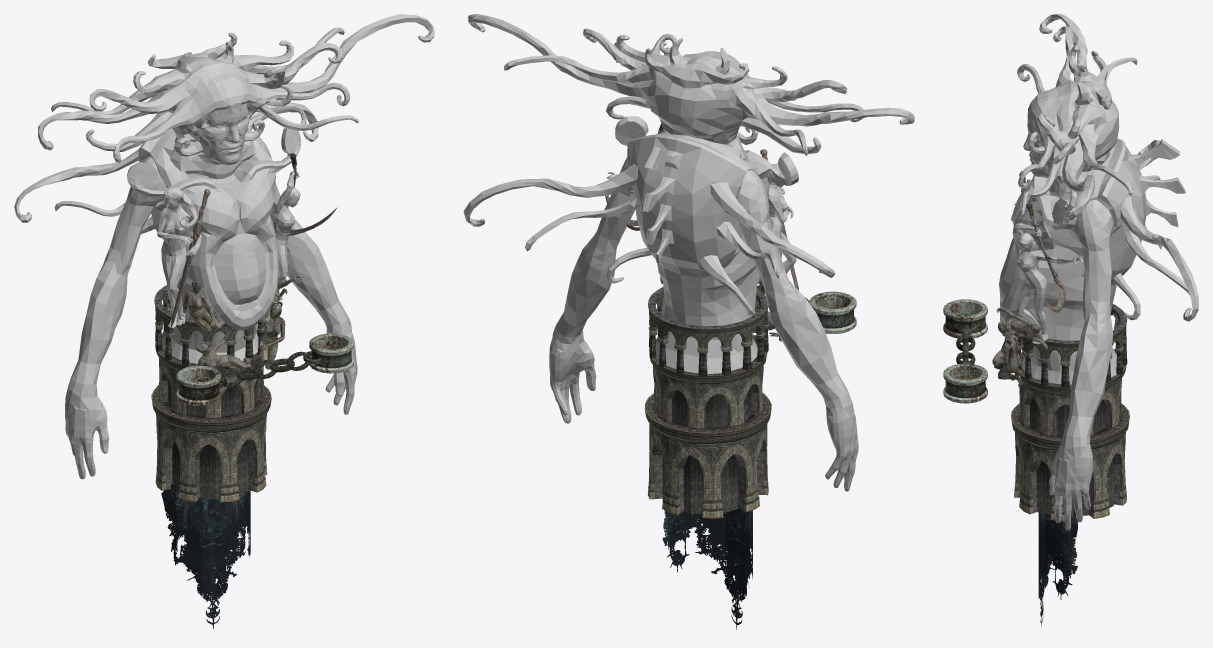
The model's file is sparda.obj.
3 renders of one model, left to right at view 1: azimuth 30°, elevation 25°; view 2: azimuth 150°, elevation 25°; view 3: azimuth 270°, elevation 25°, orthographic. The views are drawn at different scales.
Parts seen in each view (by area): view 1: rdmobj00.001, rdmobj05, rdmobj03, rdmobj02, rdmobj04, rdmobj01; view 2: rdmobj00.001, rdmobj05, rdmobj03, rdmobj02, rdmobj01, rdmobj04; view 3: rdmobj00.001, rdmobj05, rdmobj03, rdmobj01, rdmobj02, rdmobj04.
Boxes of the visible parts, bbox=[...] form: rdmobj00.001: bbox=[65, 119, 357, 479]; rdmobj05: bbox=[14, 14, 434, 328]; rdmobj03: bbox=[151, 285, 271, 502]; rdmobj02: bbox=[161, 484, 250, 629]; rdmobj04: bbox=[170, 153, 337, 374]; rdmobj01: bbox=[176, 333, 353, 405]; rdmobj00.001: bbox=[549, 116, 858, 491]; rdmobj05: bbox=[463, 14, 914, 315]; rdmobj03: bbox=[644, 287, 771, 518]; rdmobj02: bbox=[662, 499, 752, 629]; rdmobj01: bbox=[757, 285, 856, 333]; rdmobj04: bbox=[605, 124, 798, 341]; rdmobj00.001: bbox=[999, 138, 1185, 530]; rdmobj05: bbox=[1011, 14, 1198, 344]; rdmobj03: bbox=[1011, 304, 1129, 521]; rdmobj01: bbox=[943, 299, 987, 403]; rdmobj02: bbox=[1038, 511, 1077, 626]; rdmobj04: bbox=[992, 171, 1065, 386].
Size of the model in its own units: 1610 by 2155 by 881.
